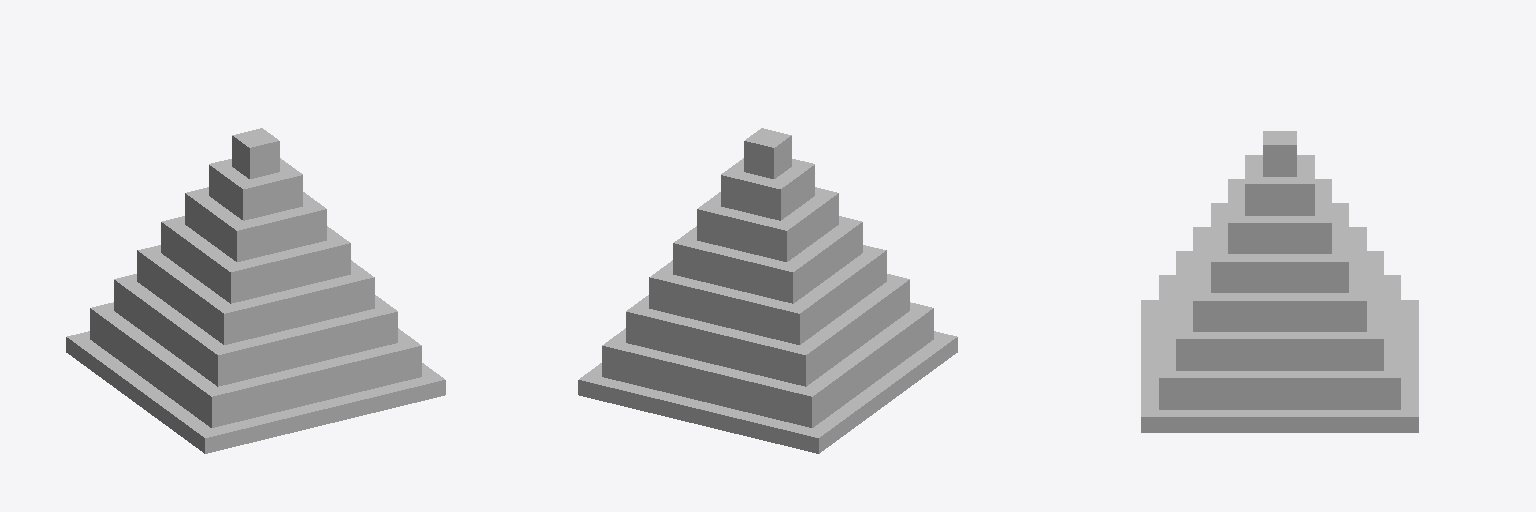
Rendered from ship.obj.
3 views of the same model, side by side, from view 1: azimuth 30°, elevation 25°; view 2: azimuth 150°, elevation 25°; view 3: azimuth 270°, elevation 25° (orthographic).
Visible parts, largest first — view 1: object 1; view 2: object 1; view 3: object 1.
Part boxes in pixels (x1,y1,x2,y2): object 1: (66,128,445,453); object 1: (578,128,957,453); object 1: (1141,131,1418,432).
Bounding box in the file's own units: 1.6 × 1.5 × 1.6.